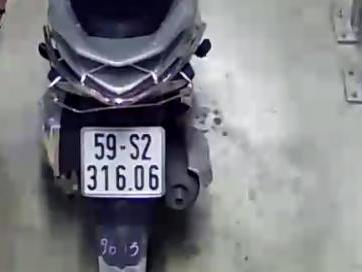num_plate: (79, 125, 168, 197)
